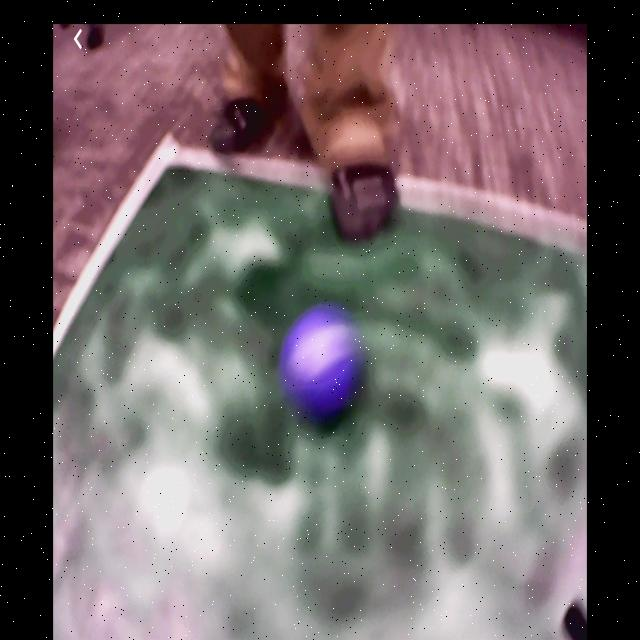ball: (282, 306, 356, 417)
